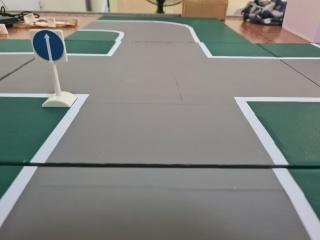straight: (29, 28, 67, 64)
